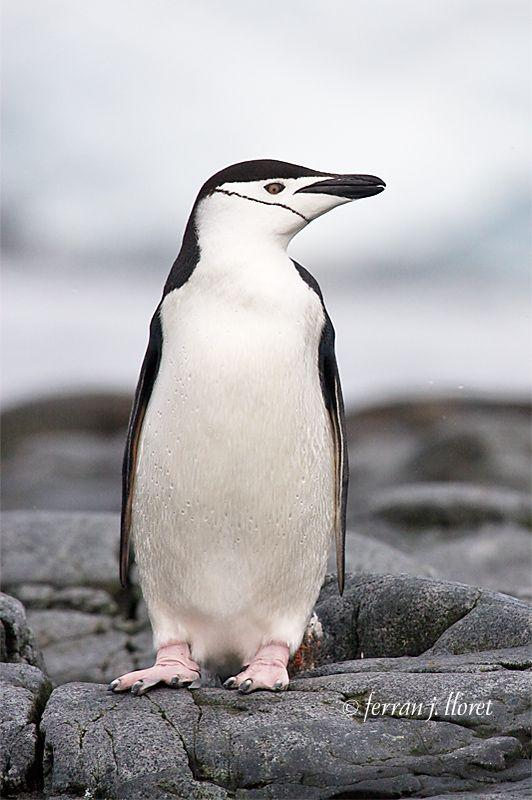chinstrap: (104, 139, 417, 730)
